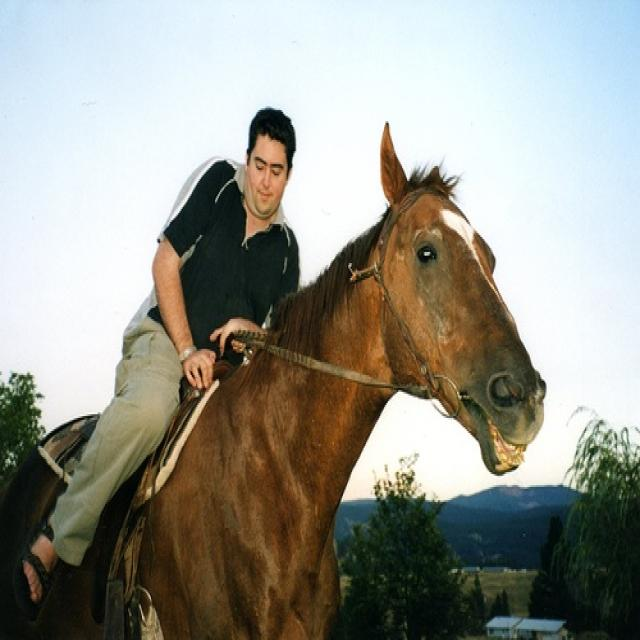horse: (1, 120, 547, 638)
